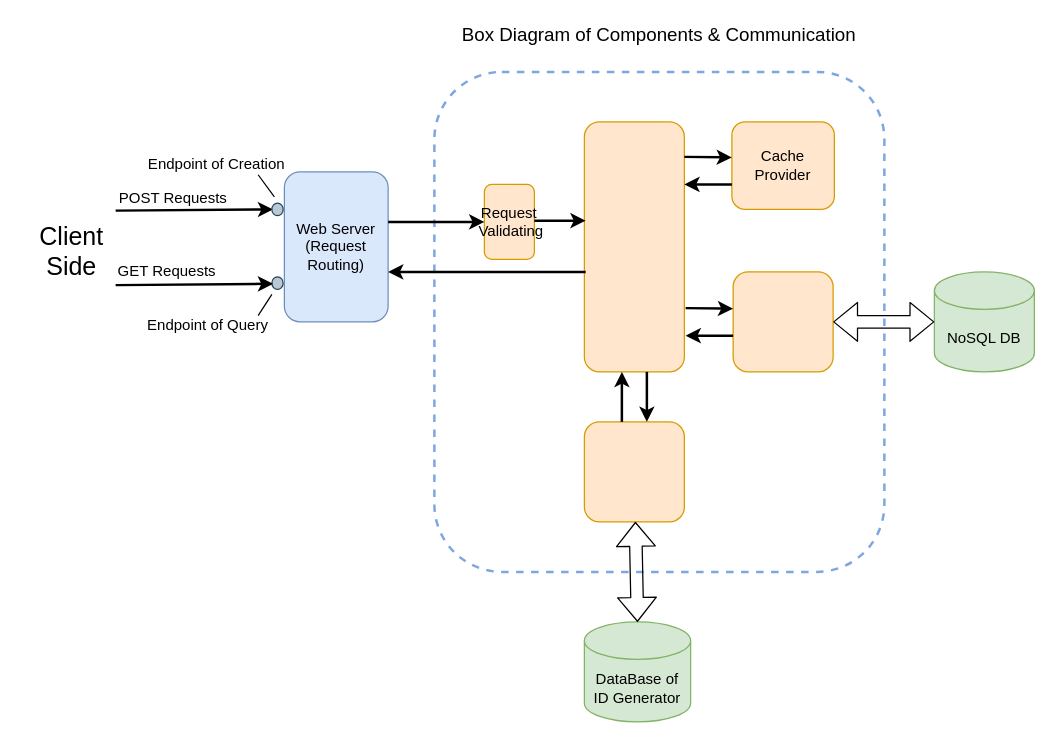
The diagram is 1056 pixels wide and 744 high, and some of its shapes have lost their labels. Each missing label, with the centre of its shape:
"API Logic" belongs at [633,246].
"Data Storage Provider" belongs at [782,321].
"ID Generator" belongs at [633,471].
